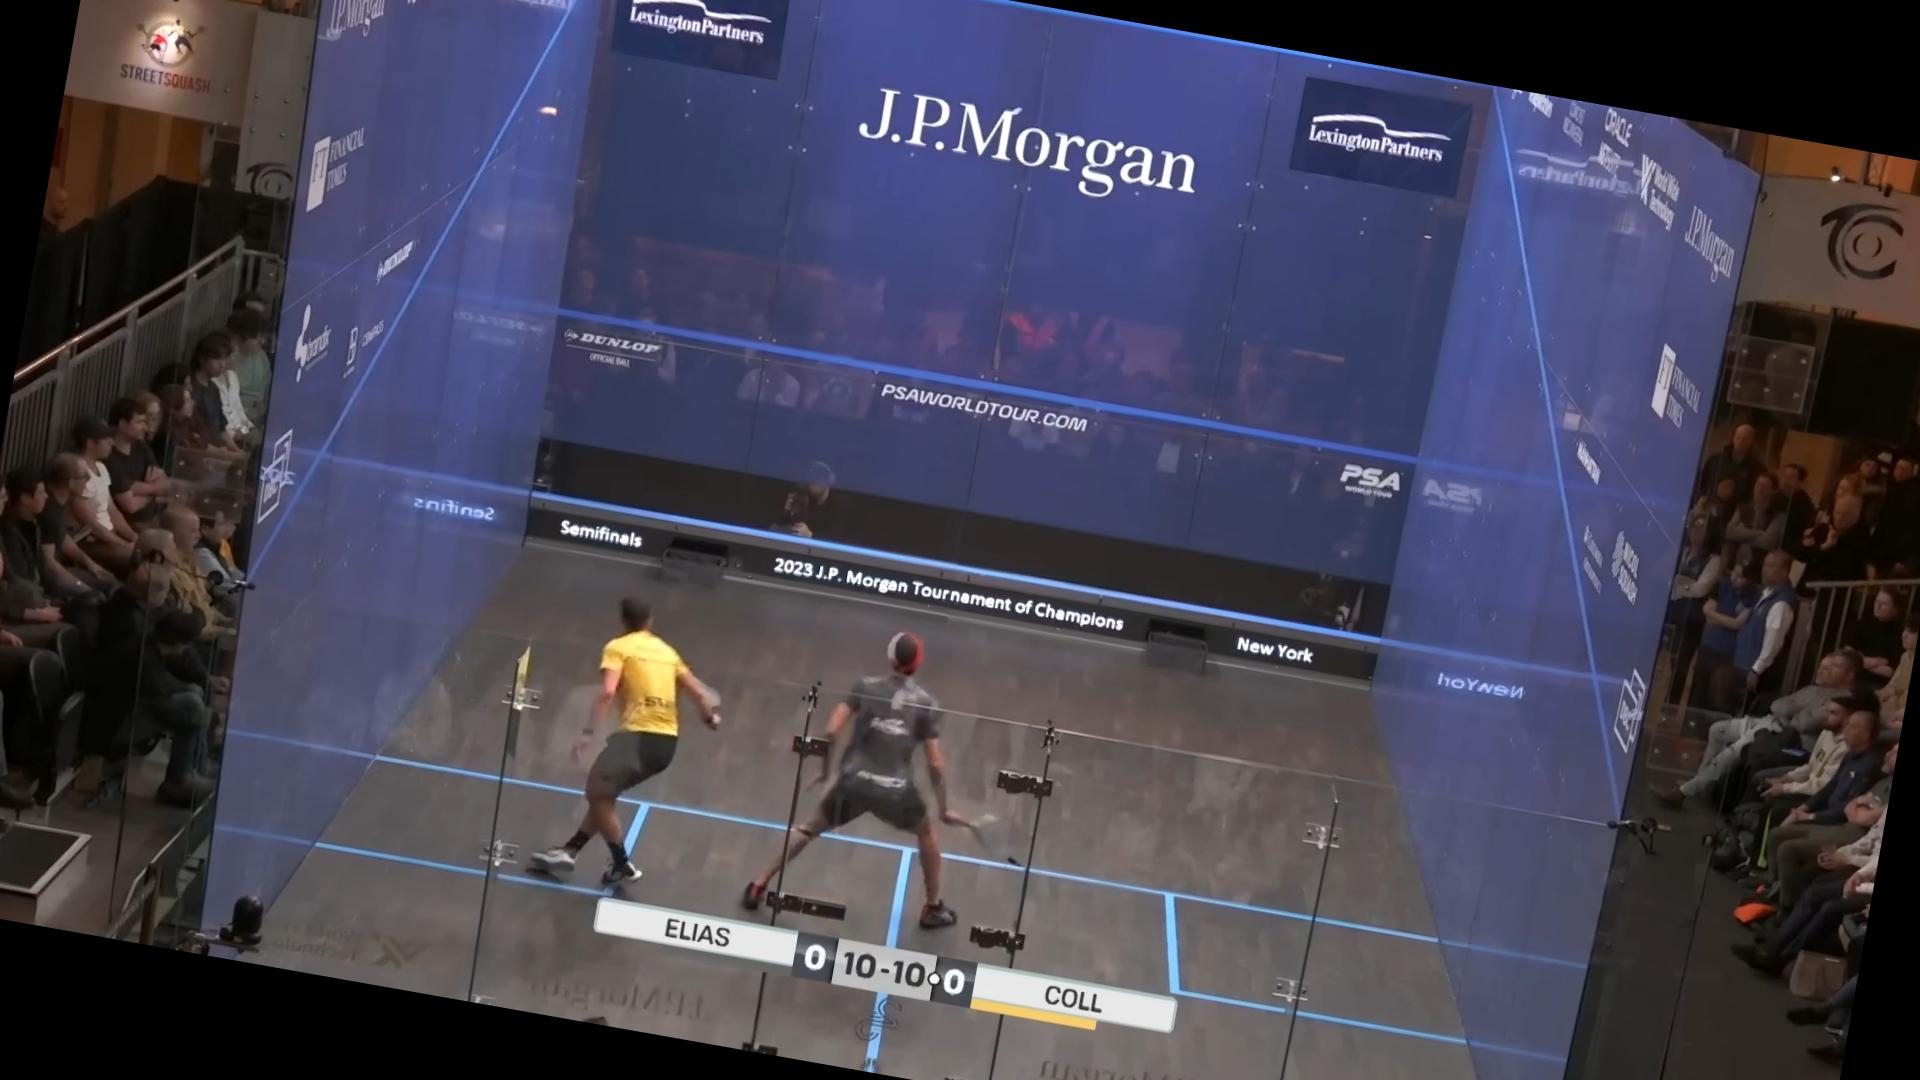Racket: (953, 799, 1042, 872)
